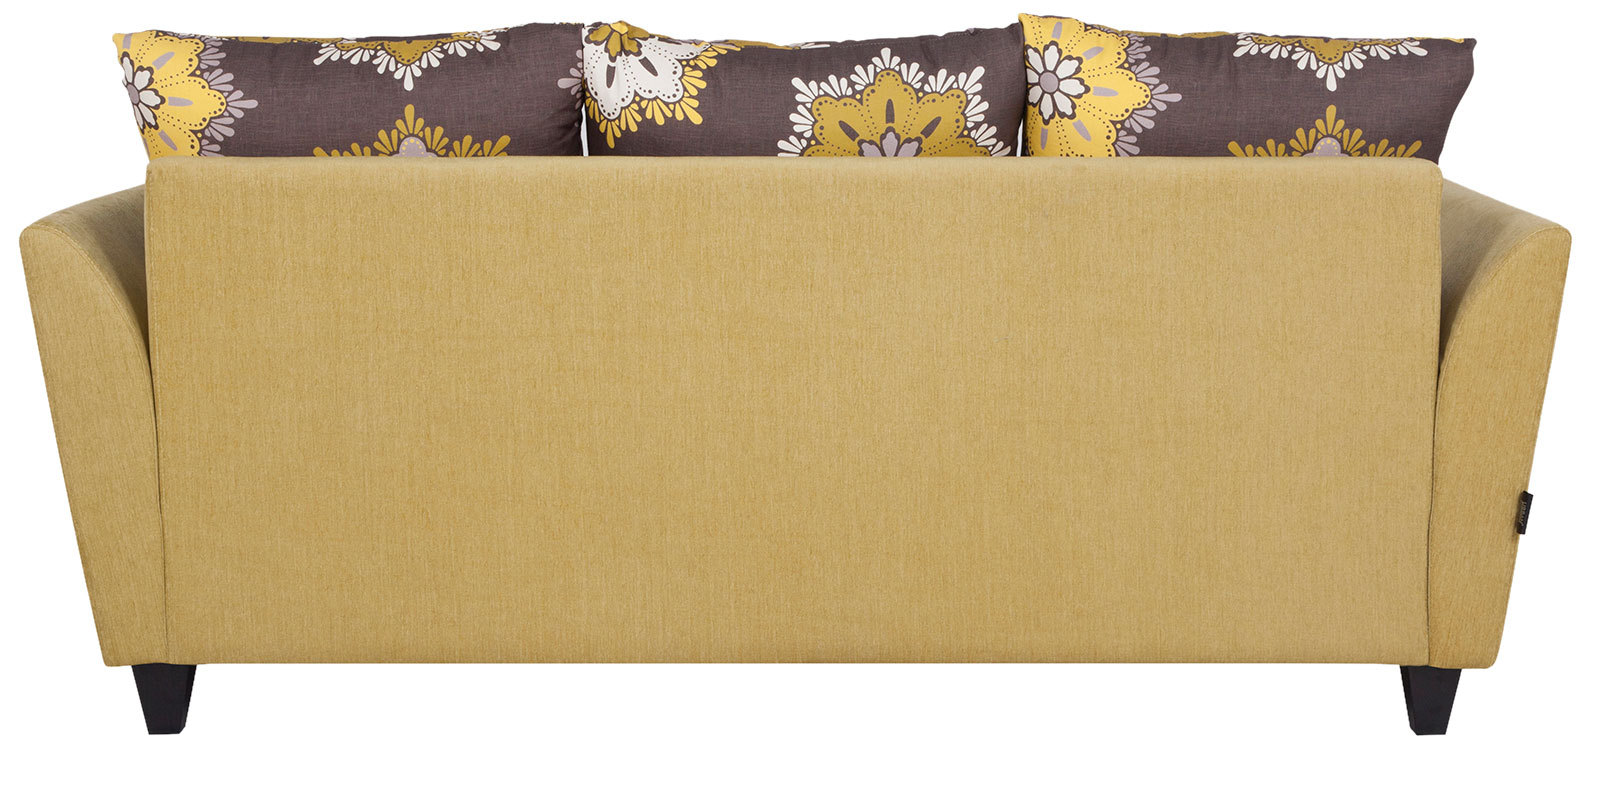Rio Brilliance Three Seater Sofa in Yellow Colour by Urban Living: (18, 11, 1572, 732)
